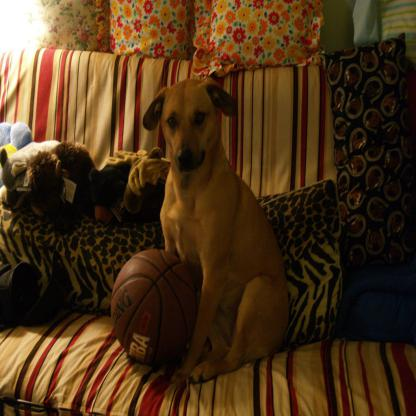Ball: (110, 248, 198, 366)
